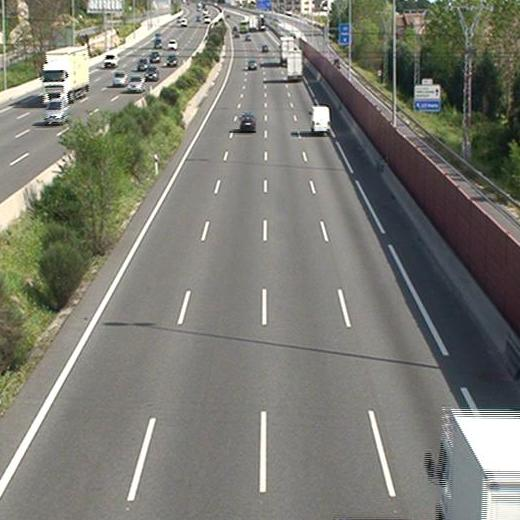car: (239, 113, 257, 132), (246, 59, 258, 71)
small-truck: (287, 48, 303, 80)
van: (311, 106, 329, 134)
